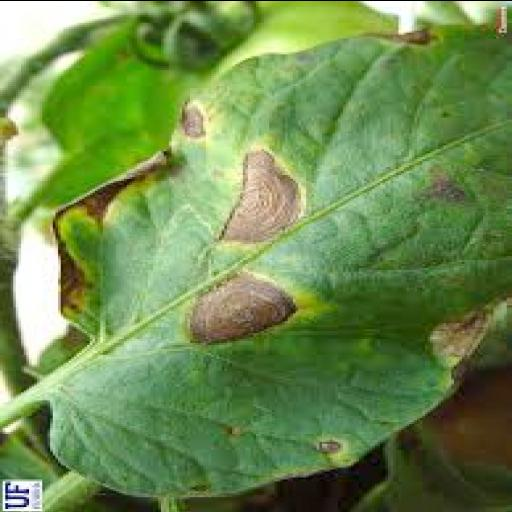Early Blight: (30, 21, 512, 501)
